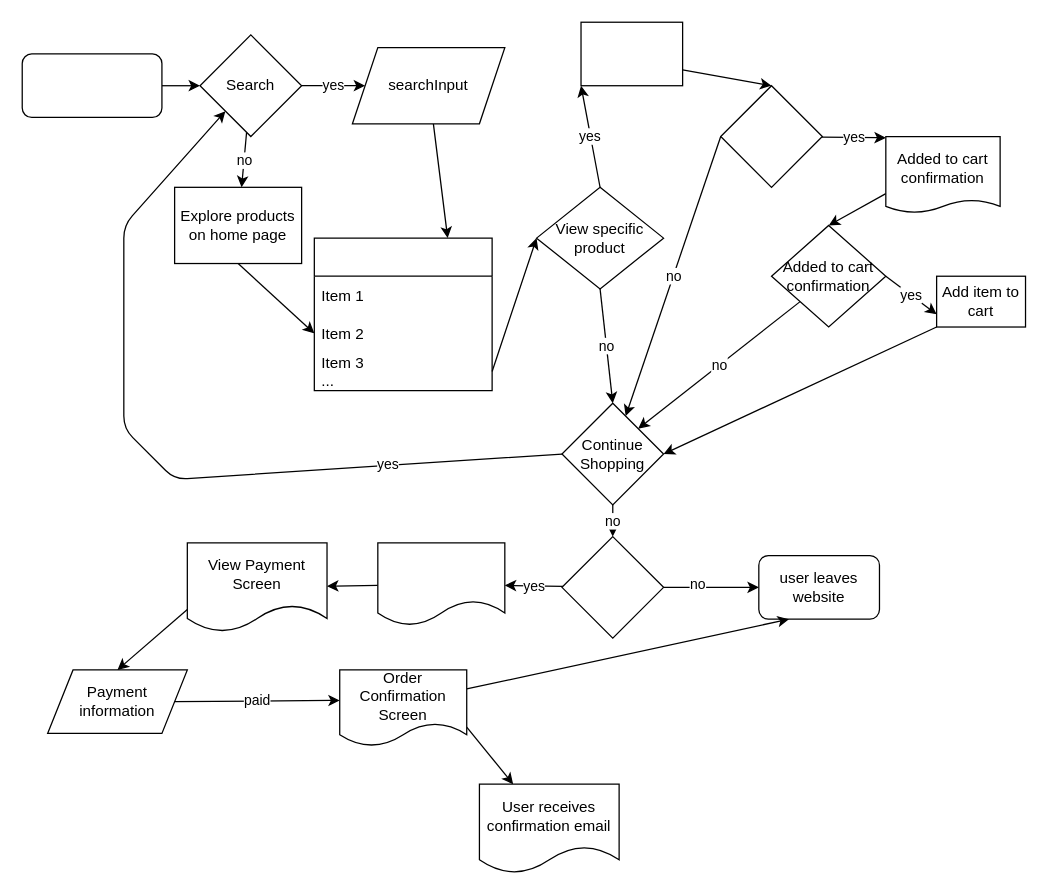
This 1048x895 diagram has some shape labels left out. The box of each missing label's shape, as (x1, y1, x2, y2) in pixels:
Add to cart: (719, 84, 822, 187)
checkout: (561, 535, 664, 638)
Product's webpage opens: (580, 21, 683, 86)
ProductList: (313, 237, 492, 391)
User enters website: (21, 53, 162, 117)
View Cart Screen: (377, 542, 505, 625)
